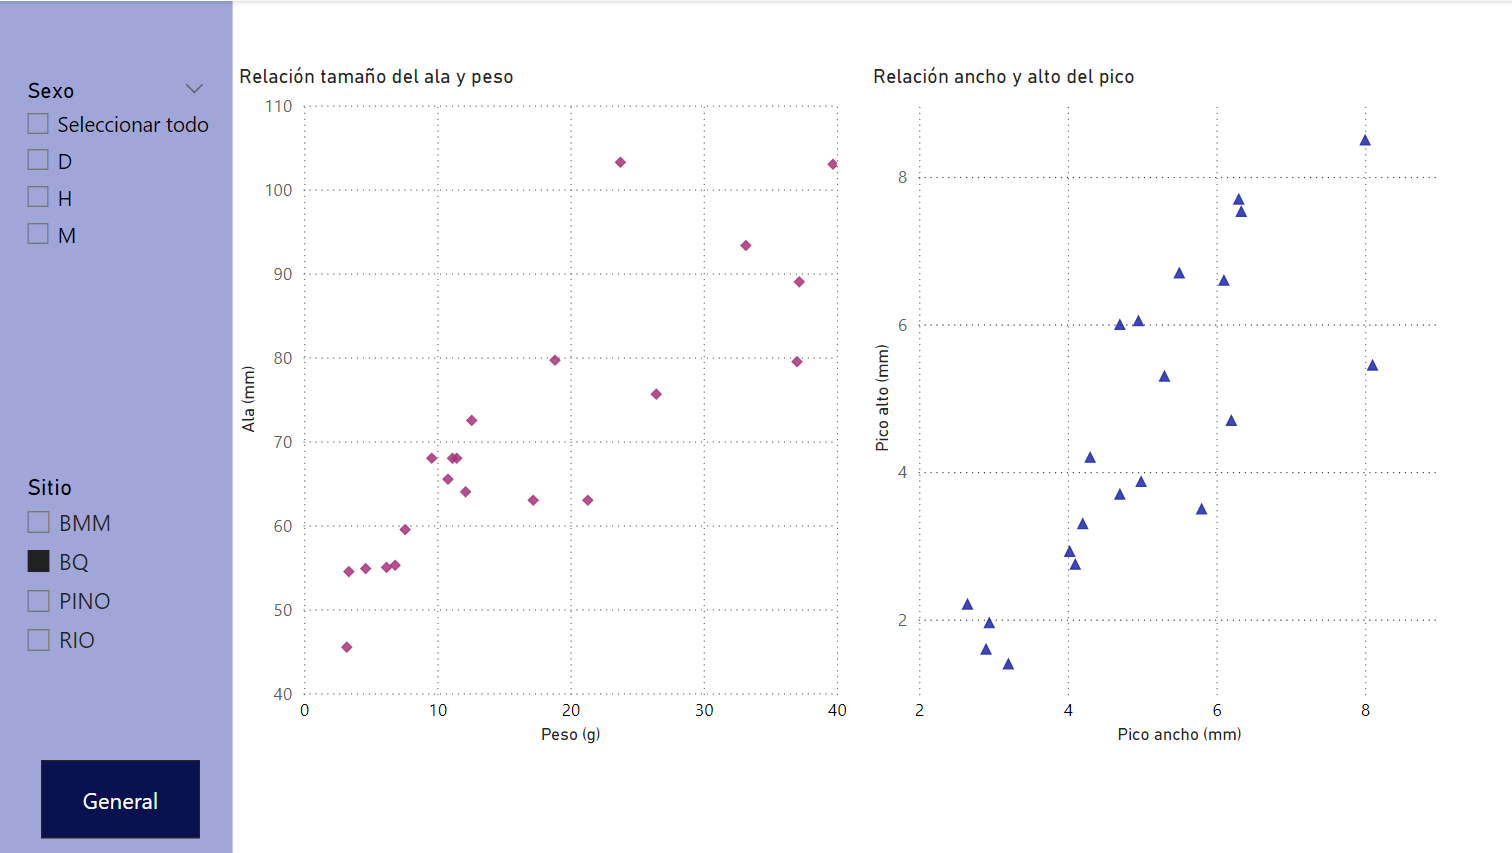

The dashboard page shown, as its layout file describes it:
{"tool":"powerbi","page":{"name":"Relaciones medidas","canvas":[1280,720],"ordinal":1},"visuals":[{"type":"shape","box":[0,0,196.3,719.8],"z":0},{"type":"scatterChart","title":"Relación tamaño  del ala y peso","fields":{"X":["Avg(datosaves3.pesogr)"],"Y":["Avg(datosaves3.alamm)"],"Category":["datosaves3.especie"]},"box":[196.1,52.8,522.1,577.6],"z":1000},{"type":"slicer","fields":{"Values":["datosaves3.sexo"]},"box":[10.5,60.2,174.1,171.5],"z":2000},{"type":"scatterChart","title":"Relación ancho y alto del pico","fields":{"X":["Avg(datosaves3.picoanchomm)"],"Y":["Avg(datosaves3.picoaltomm)"],"Category":["datosaves3.especie"]},"box":[730.7,52.8,491.6,577.6],"z":3000},{"type":"slicer","fields":{"Values":["datosaves3.site"]},"box":[10.5,393.9,158.4,204.2],"z":4000},{"type":"pageNavigator","box":[35,639.5,134.1,66.1],"z":5000}]}

Visuals, with their boxes on the page's 1280x720 design canvas (x1, y1, x2, y2). These are canvas units, not pixel positions in the 1512x853 screenshot, which may show the page scaled, cropped or inside an application window:
shape: [0, 0, 196, 720]
"Relación tamaño  del ala y peso" scatterChart: [196, 53, 718, 630]
slicer - datosaves3.sexo: [10, 60, 185, 232]
"Relación ancho y alto del pico" scatterChart: [731, 53, 1222, 630]
slicer - datosaves3.site: [10, 394, 169, 598]
pageNavigator: [35, 640, 169, 706]
